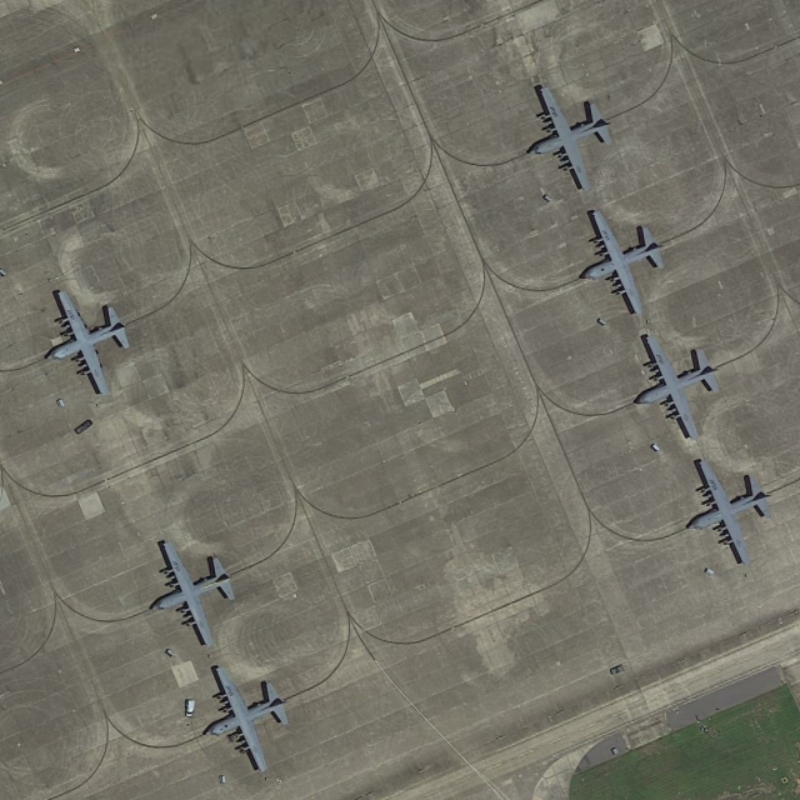A2: (142, 533, 243, 653), (41, 284, 135, 401), (199, 662, 296, 774), (628, 327, 722, 442), (528, 80, 618, 197), (681, 454, 772, 567), (577, 206, 666, 320)
